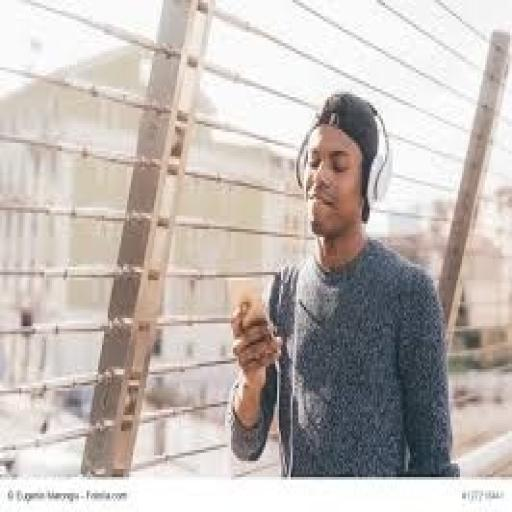listening_to_music: (225, 89, 460, 480)
